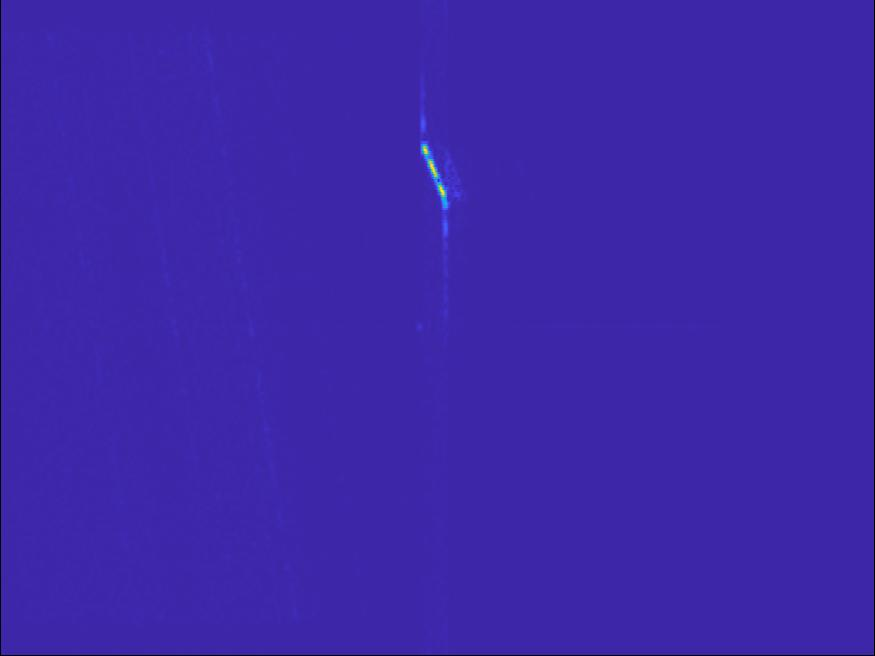Interference: (345, 298, 457, 360)
